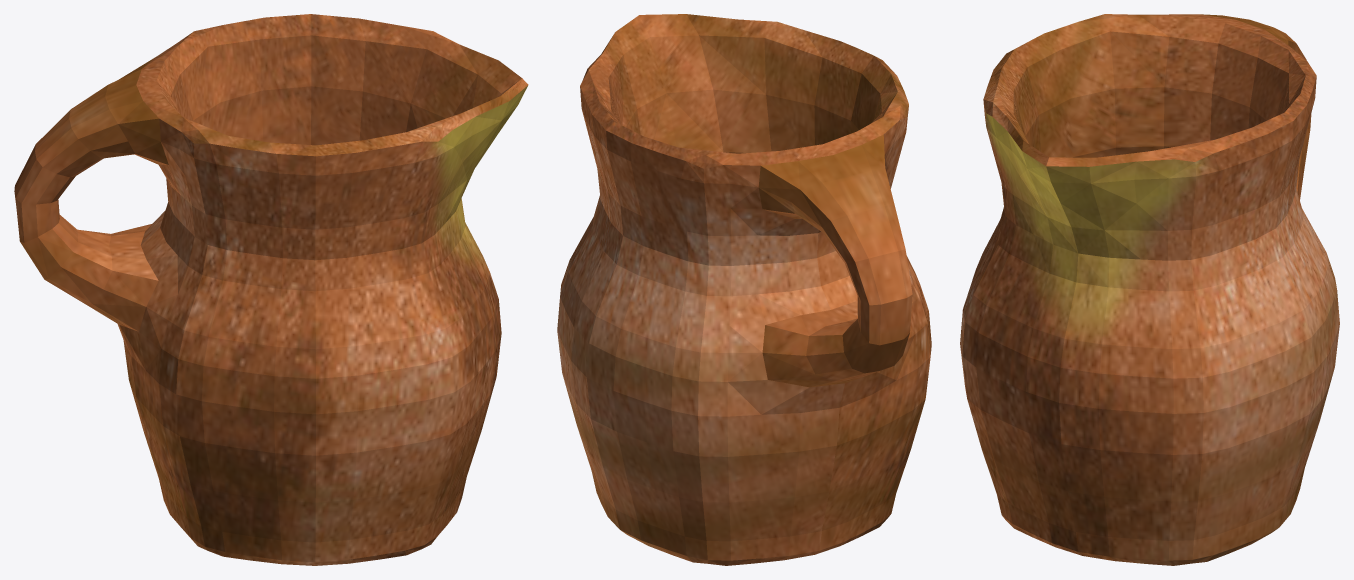
The model's file is sweethome3d-scopia-old-jar-13.glb.
3 renders of one model, left to right at view 1: azimuth 30°, elevation 25°; view 2: azimuth 150°, elevation 25°; view 3: azimuth 270°, elevation 25°, orthographic. The views are drawn at different scales.
Parts seen in each view (by area): view 1: jar_Plane; view 2: jar_Plane; view 3: jar_Plane.
Boxes of the visible parts, left/top/right/bottom form: jar_Plane: left=14, top=14, right=528, bottom=565; jar_Plane: left=557, top=14, right=931, bottom=565; jar_Plane: left=960, top=14, right=1339, bottom=565.
Size of the model in its own units: 1.03 by 1.06 by 0.8551.
1 material, 1 textured.
